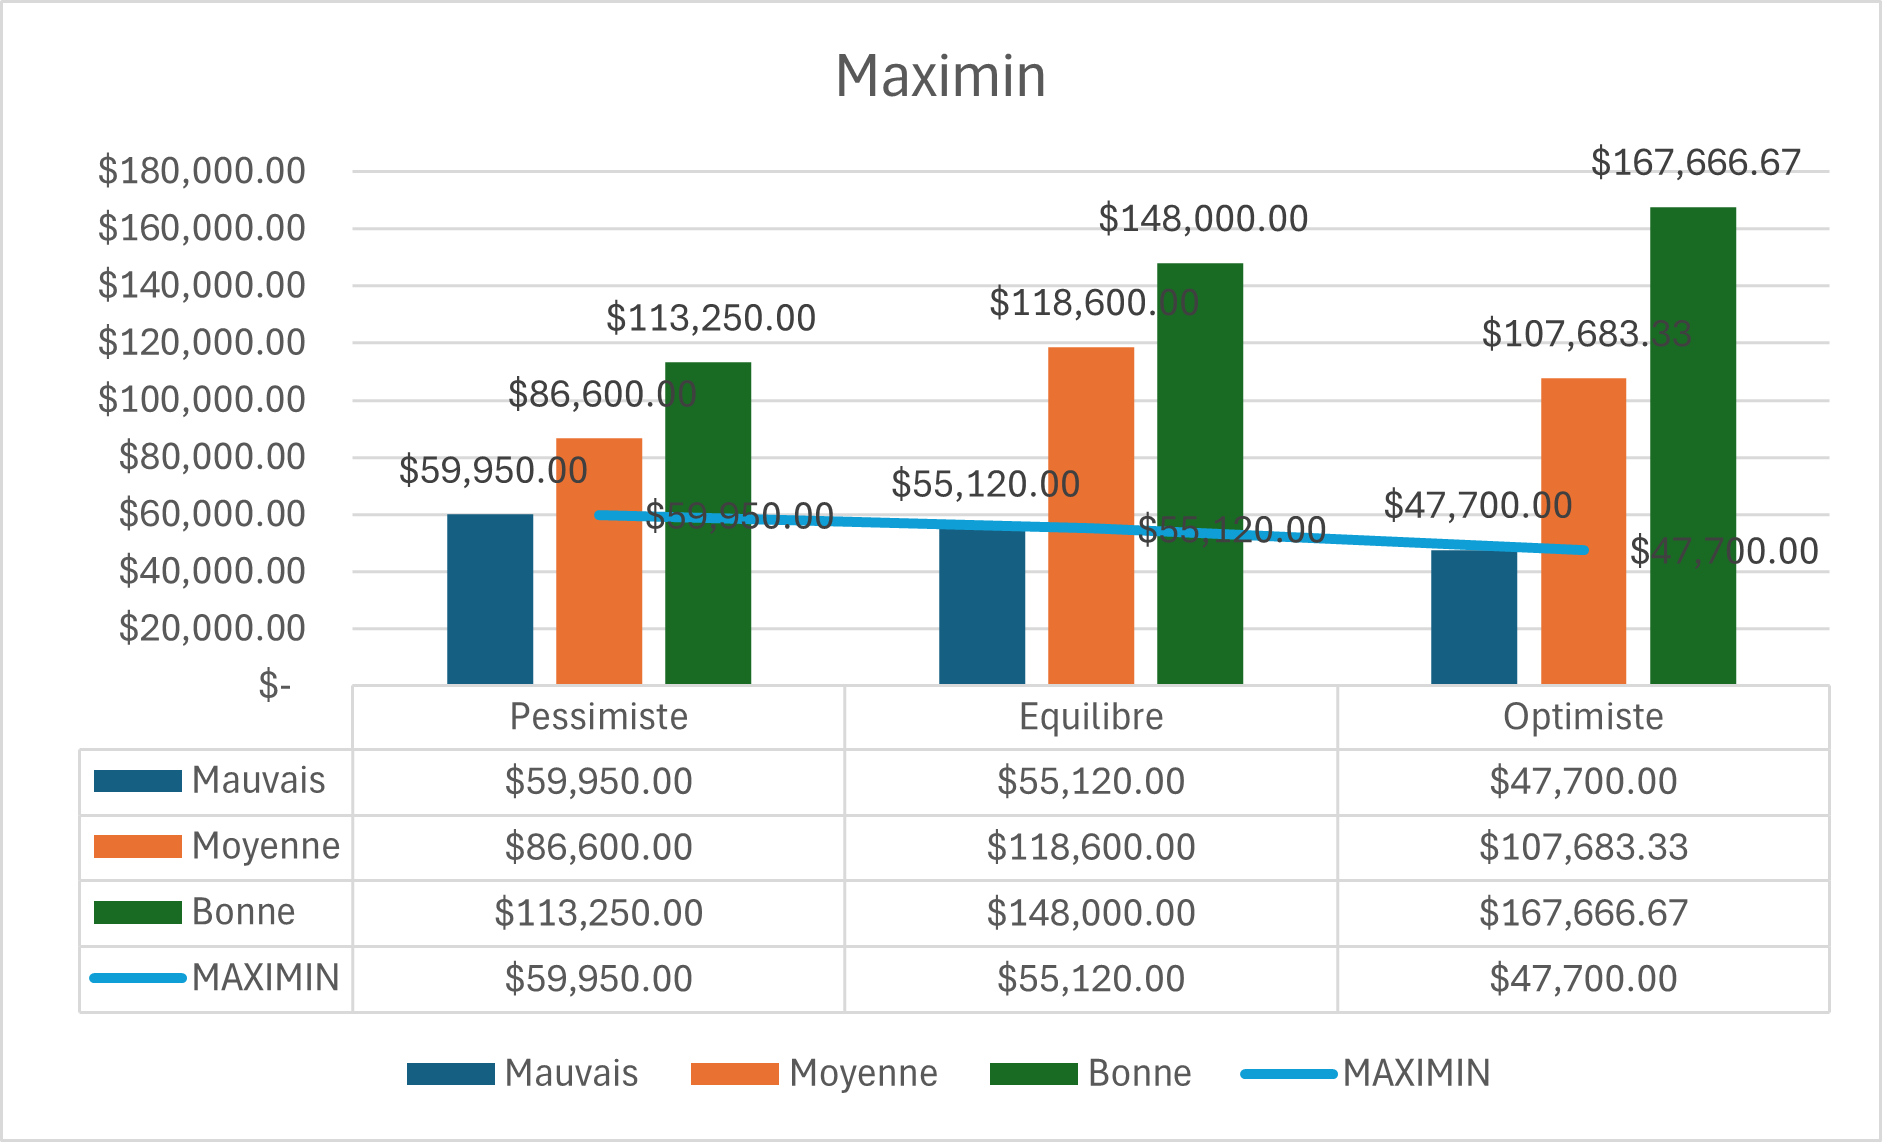

Layout of this report page (visuals, bound fields, positions):
{"tool":"tableau","page":{"name":"Dashboard 2","canvas":[1000,800],"ordinal":1},"visuals":[{"type":"worksheet","title":"Sheet 4","mark":"Automatic","rows":["ORIGIN","DEST","FL_DATE","FL_DATE","FL_DATE"],"cols":["AIRLINE_CODE"],"box":[8,8,984,784]}]}

Visuals, with their boxes on the page's 1000x800 design canvas (x1, y1, x2, y2). These are canvas units, not pixel positions in the 1882x1142 screenshot, which may show the page scaled, cropped or inside an application window:
"Sheet 4" worksheet: 8:8:992:792
